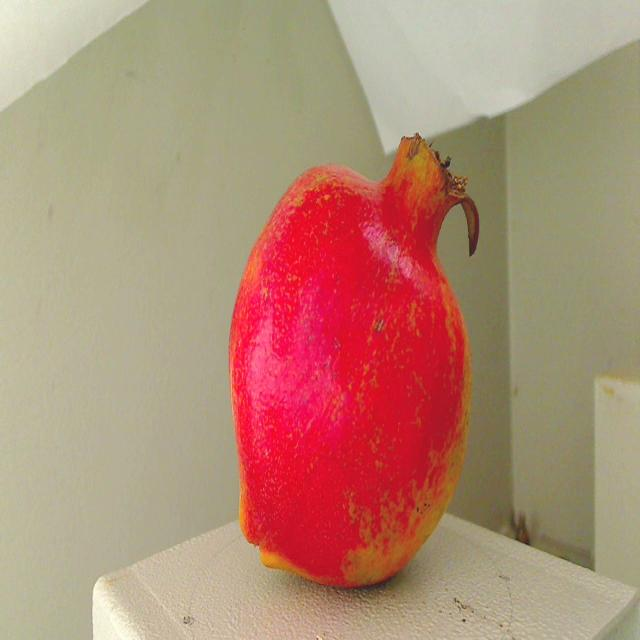pomegranate: (219, 127, 488, 592)
